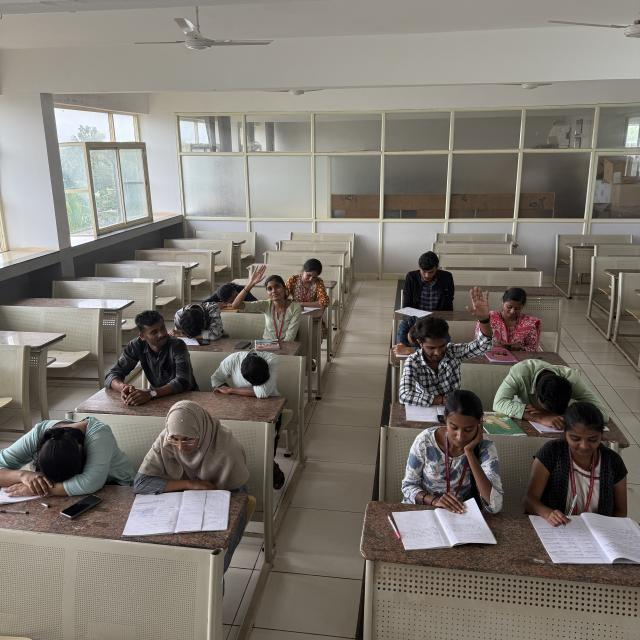Hand Rising: (400, 283, 494, 389), (235, 262, 299, 340)
Reading: (409, 396, 510, 545), (135, 398, 240, 524), (393, 251, 455, 318)
Sleeping: (0, 411, 119, 486), (496, 358, 614, 422), (208, 340, 286, 398), (168, 297, 232, 346), (198, 269, 250, 315)
Using Phone: (107, 308, 195, 406)
Writing: (526, 409, 635, 552), (289, 253, 332, 313)
